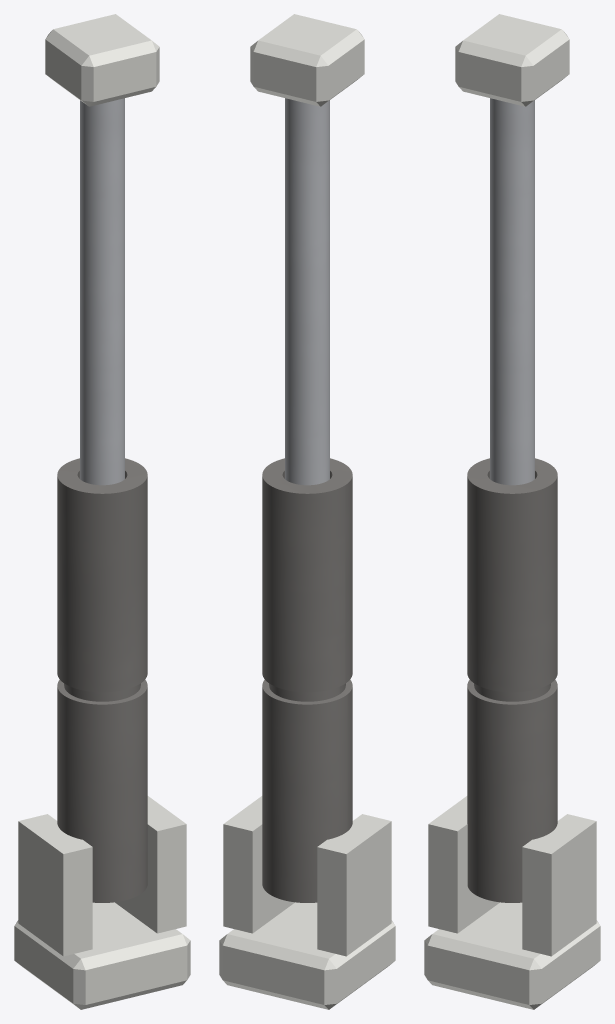
The model's file is ax_util_14_linear_actuator_s_extended.glb.
3 views of the same model, side by side, from view 1: azimuth 30°, elevation 25°; view 2: azimuth 150°, elevation 25°; view 3: azimuth 330°, elevation 25° (orthographic).
Parts seen in each view (by area): view 1: cylinder, base_clevis, rod, rod_eye; view 2: cylinder, base_clevis, rod, rod_eye; view 3: cylinder, base_clevis, rod, rod_eye.
Boxes of the visible parts, bbox=[...] form: cylinder: bbox=[57, 458, 147, 902]; base_clevis: bbox=[14, 796, 190, 1009]; rod: bbox=[80, 98, 124, 485]; rod_eye: bbox=[45, 14, 159, 106]; cylinder: bbox=[262, 458, 352, 902]; base_clevis: bbox=[219, 796, 395, 1009]; rod: bbox=[285, 98, 329, 485]; rod_eye: bbox=[250, 14, 364, 106]; cylinder: bbox=[467, 458, 557, 902]; base_clevis: bbox=[424, 796, 600, 1009]; rod: bbox=[490, 98, 534, 485]; rod_eye: bbox=[455, 14, 569, 106].
Bounding box in the file's own units: 0.126 × 0.92 × 0.12.
Materials: 3 (2 with a texture image).
